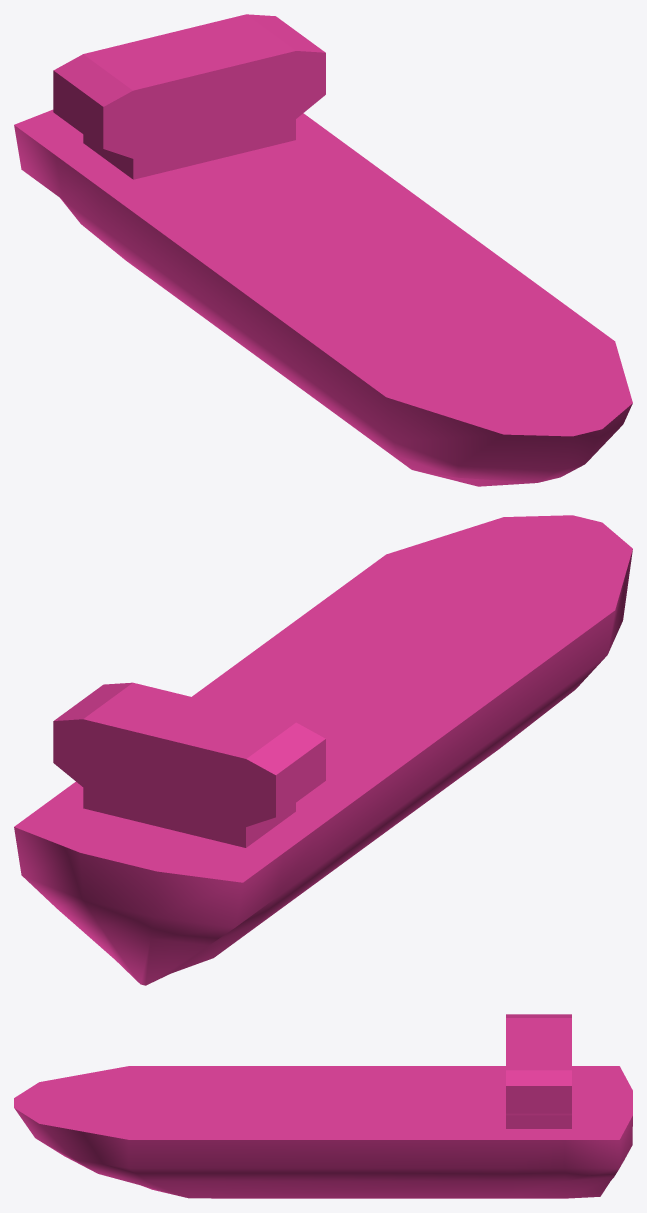
File: TestBoat.fbx
The picture shows the model from 3 angles, top to bottom: view 1: azimuth 30°, elevation 25°; view 2: azimuth 150°, elevation 25°; view 3: azimuth 270°, elevation 25°; orthographic projection. The views are drawn at different scales.
Visible parts, largest first — view 1: pCube2; view 2: pCube2; view 3: pCube2.
Part boxes in pixels (<box>): pCube2: <box>14,14,632,486</box>; pCube2: <box>14,515,632,985</box>; pCube2: <box>14,1014,632,1198</box>.
Bounding box in the file's own units: 47.64 × 45.76 × 169.
